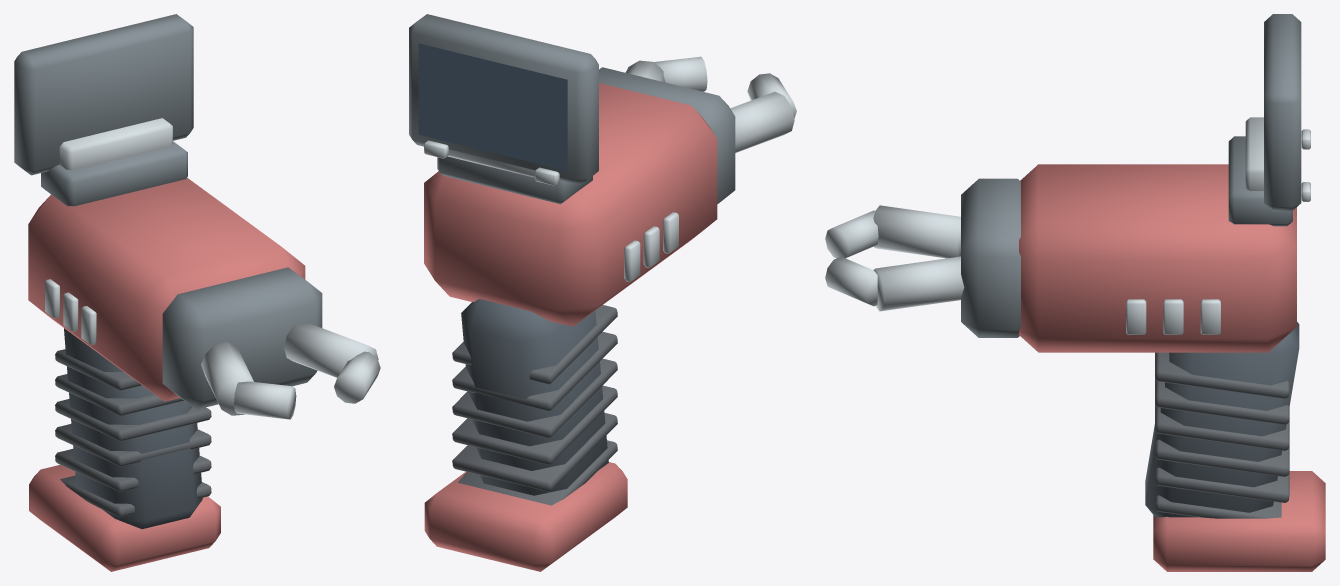
Rendered from dismantler_standard.glb.
3 views of the same model, side by side, from view 1: azimuth 30°, elevation 25°; view 2: azimuth 150°, elevation 25°; view 3: azimuth 270°, elevation 25° (orthographic). The views are drawn at different scales.
Parts seen in each view (by area): view 1: ToolBody_darkred, LiveViewSurfaceFrame_frame, NoseHousing_frame, Grip_black, Battery_darkred, GripRib_rubber, DisplayMount_frame, Jaw_steel, JawTip_steel, DisplayBracket_steel, HousingVent_steel; view 2: ToolBody_darkred, Grip_black, LiveViewSurface_glass, GripRib_rubber, Battery_darkred, LiveViewSurfaceFrame_frame, NoseHousing_frame, Jaw_steel, DisplayMount_frame, JawTip_steel, HousingVent_steel, DisplayControls_steel (+1 smaller); view 3: ToolBody_darkred, Grip_black, GripRib_rubber, Battery_darkred, NoseHousing_frame, Jaw_steel, LiveViewSurfaceFrame_frame, JawTip_steel, DisplayMount_frame, HousingVent_steel, DisplayBracket_steel.
Boxes of the visible parts, left/top/right/bottom form: ToolBody_darkred: left=28, top=177, right=305, bottom=401; LiveViewSurfaceFrame_frame: left=14, top=14, right=193, bottom=175; NoseHousing_frame: left=162, top=267, right=322, bottom=409; Grip_black: left=64, top=328, right=202, bottom=529; Battery_darkred: left=29, top=465, right=220, bottom=571; GripRib_rubber: left=55, top=349, right=211, bottom=517; DisplayMount_frame: left=41, top=141, right=187, bottom=206; Jaw_steel: left=201, top=322, right=378, bottom=415; JawTip_steel: left=234, top=351, right=380, bottom=419; DisplayBracket_steel: left=59, top=118, right=172, bottom=170; HousingVent_steel: left=45, top=279, right=96, bottom=345; ToolBody_darkred: left=424, top=83, right=717, bottom=326; Grip_black: left=461, top=299, right=608, bottom=495; LiveViewSurface_glass: left=418, top=43, right=567, bottom=170; GripRib_rubber: left=452, top=305, right=617, bottom=505; Battery_darkred: left=424, top=462, right=627, bottom=571; LiveViewSurfaceFrame_frame: left=409, top=14, right=598, bottom=184; NoseHousing_frame: left=599, top=67, right=735, bottom=204; Jaw_steel: left=625, top=60, right=794, bottom=152; DisplayMount_frame: left=437, top=156, right=592, bottom=204; JawTip_steel: left=654, top=56, right=796, bottom=118; HousingVent_steel: left=624, top=212, right=678, bottom=281; DisplayControls_steel: left=424, top=140, right=559, bottom=185; ToolBody_darkred: left=1019, top=164, right=1296, bottom=352; Grip_black: left=1145, top=322, right=1299, bottom=517; GripRib_rubber: left=1155, top=352, right=1289, bottom=518; Battery_darkred: left=1153, top=471, right=1325, bottom=571; NoseHousing_frame: left=961, top=178, right=1020, bottom=337; Jaw_steel: left=873, top=205, right=964, bottom=311; LiveViewSurfaceFrame_frame: left=1264, top=14, right=1301, bottom=211; JawTip_steel: left=825, top=210, right=878, bottom=306; DisplayMount_frame: left=1228, top=136, right=1292, bottom=226; HousingVent_steel: left=1126, top=299, right=1220, bottom=334; DisplayBracket_steel: left=1245, top=117, right=1263, bottom=190.
Size of the model in its own units: 0.371 by 0.95 by 0.8712.
